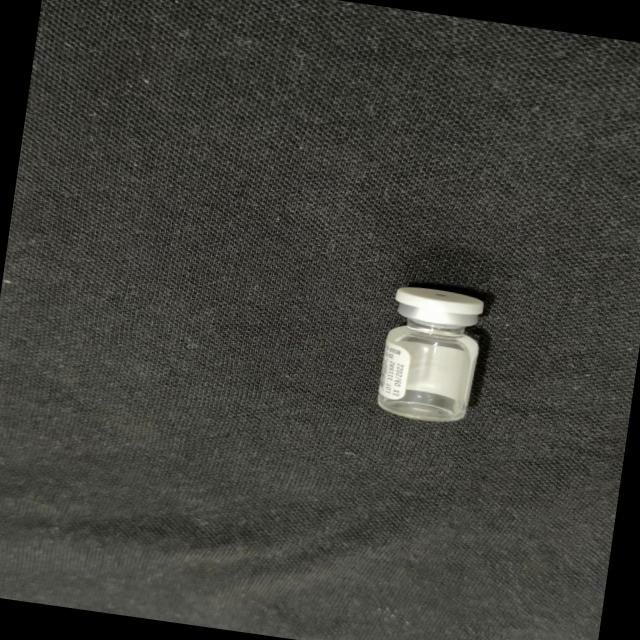fentanl_citrat: (376, 283, 487, 425)
